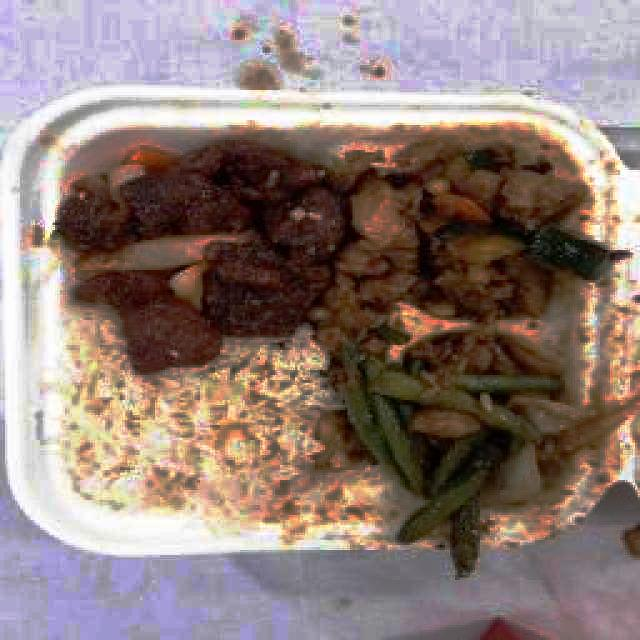Beijing Beef: (82, 144, 588, 333)
rice: (69, 376, 308, 511)
